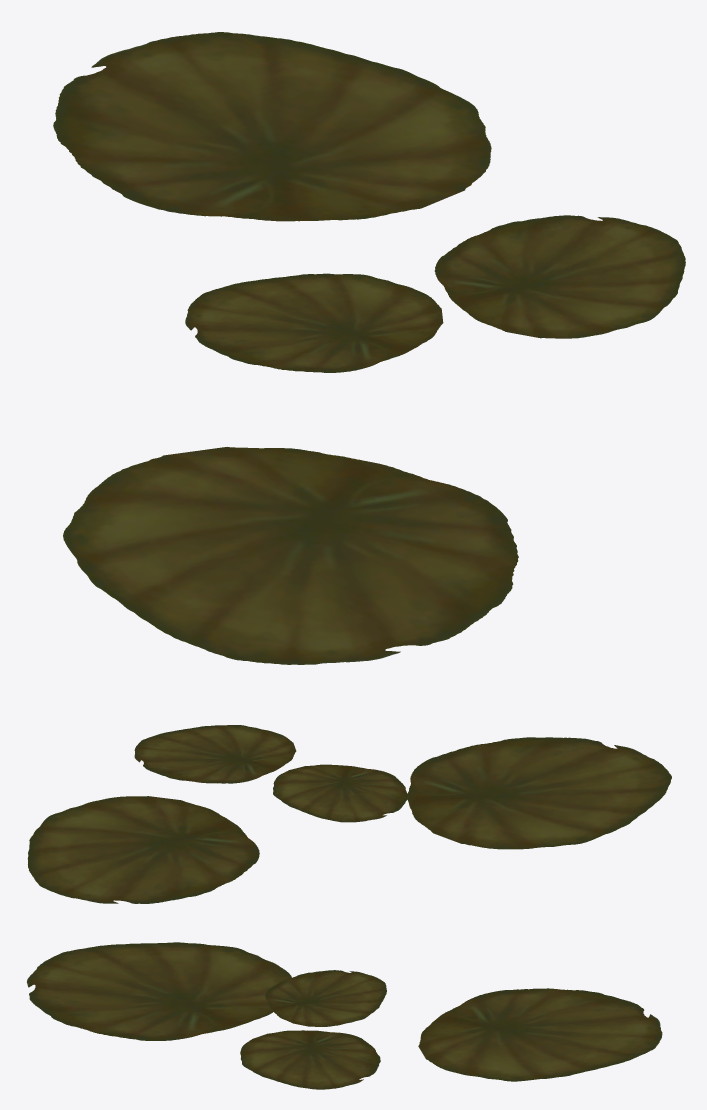
The model's file is 110101_flower_024.FBX.
3 renders of one model, top to bottom at view 1: azimuth 30°, elevation 25°; view 2: azimuth 150°, elevation 25°; view 3: azimuth 270°, elevation 25°, orthographic. The views are drawn at different scales.
Visible parts, largest first — view 1: 110101_flower_024; view 2: 110101_flower_024; view 3: 110101_flower_024.
Boxes of the visible parts, x1,y1,x2,y2 form: 110101_flower_024: (53, 32, 685, 664); 110101_flower_024: (27, 725, 671, 903); 110101_flower_024: (27, 942, 662, 1089).
Bounding box in the file's own units: 0.6713 × 0.0725 × 0.9712.
